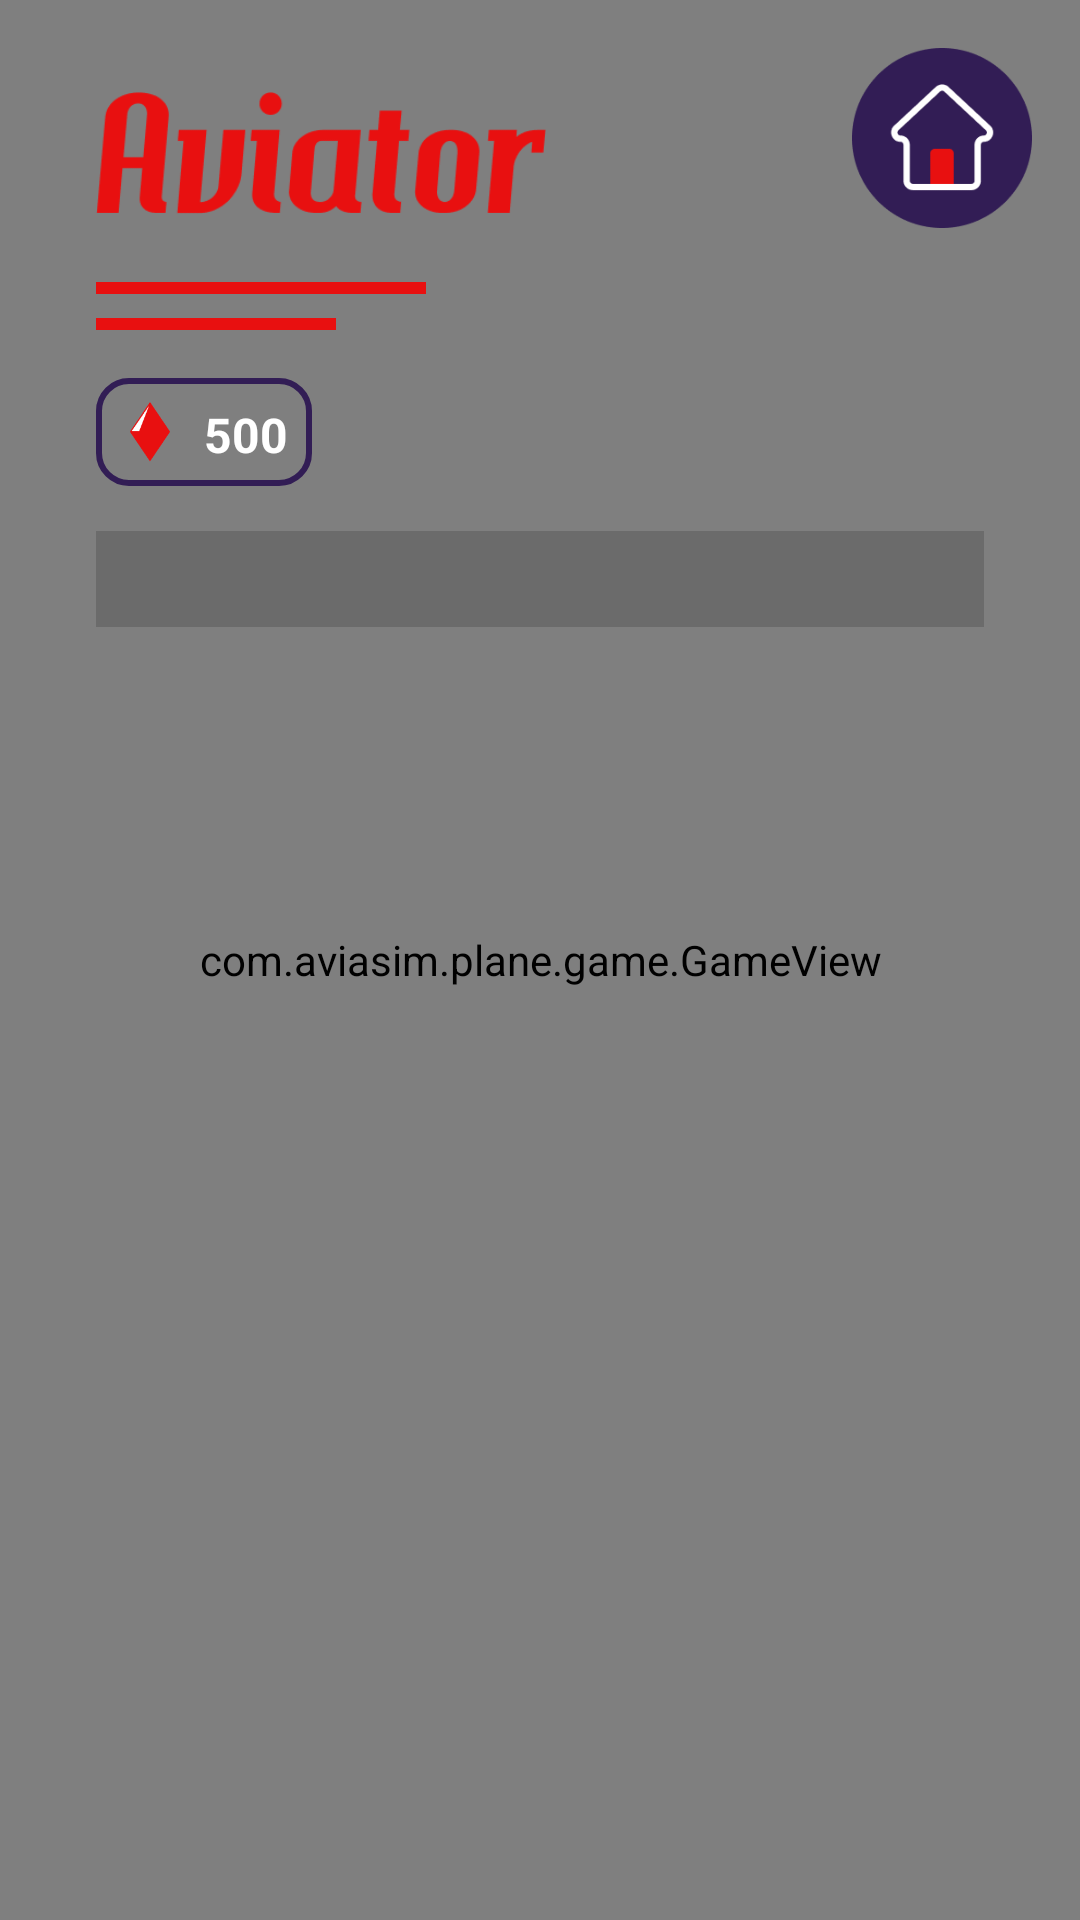

Icons on this 1080w x 1920h Android screen, each with its box as [left=x1, top=y1, right=x2, bottom=y2]:
crys: [left=130, top=402, right=170, bottom=461]
home: [left=852, top=48, right=1032, bottom=228]
